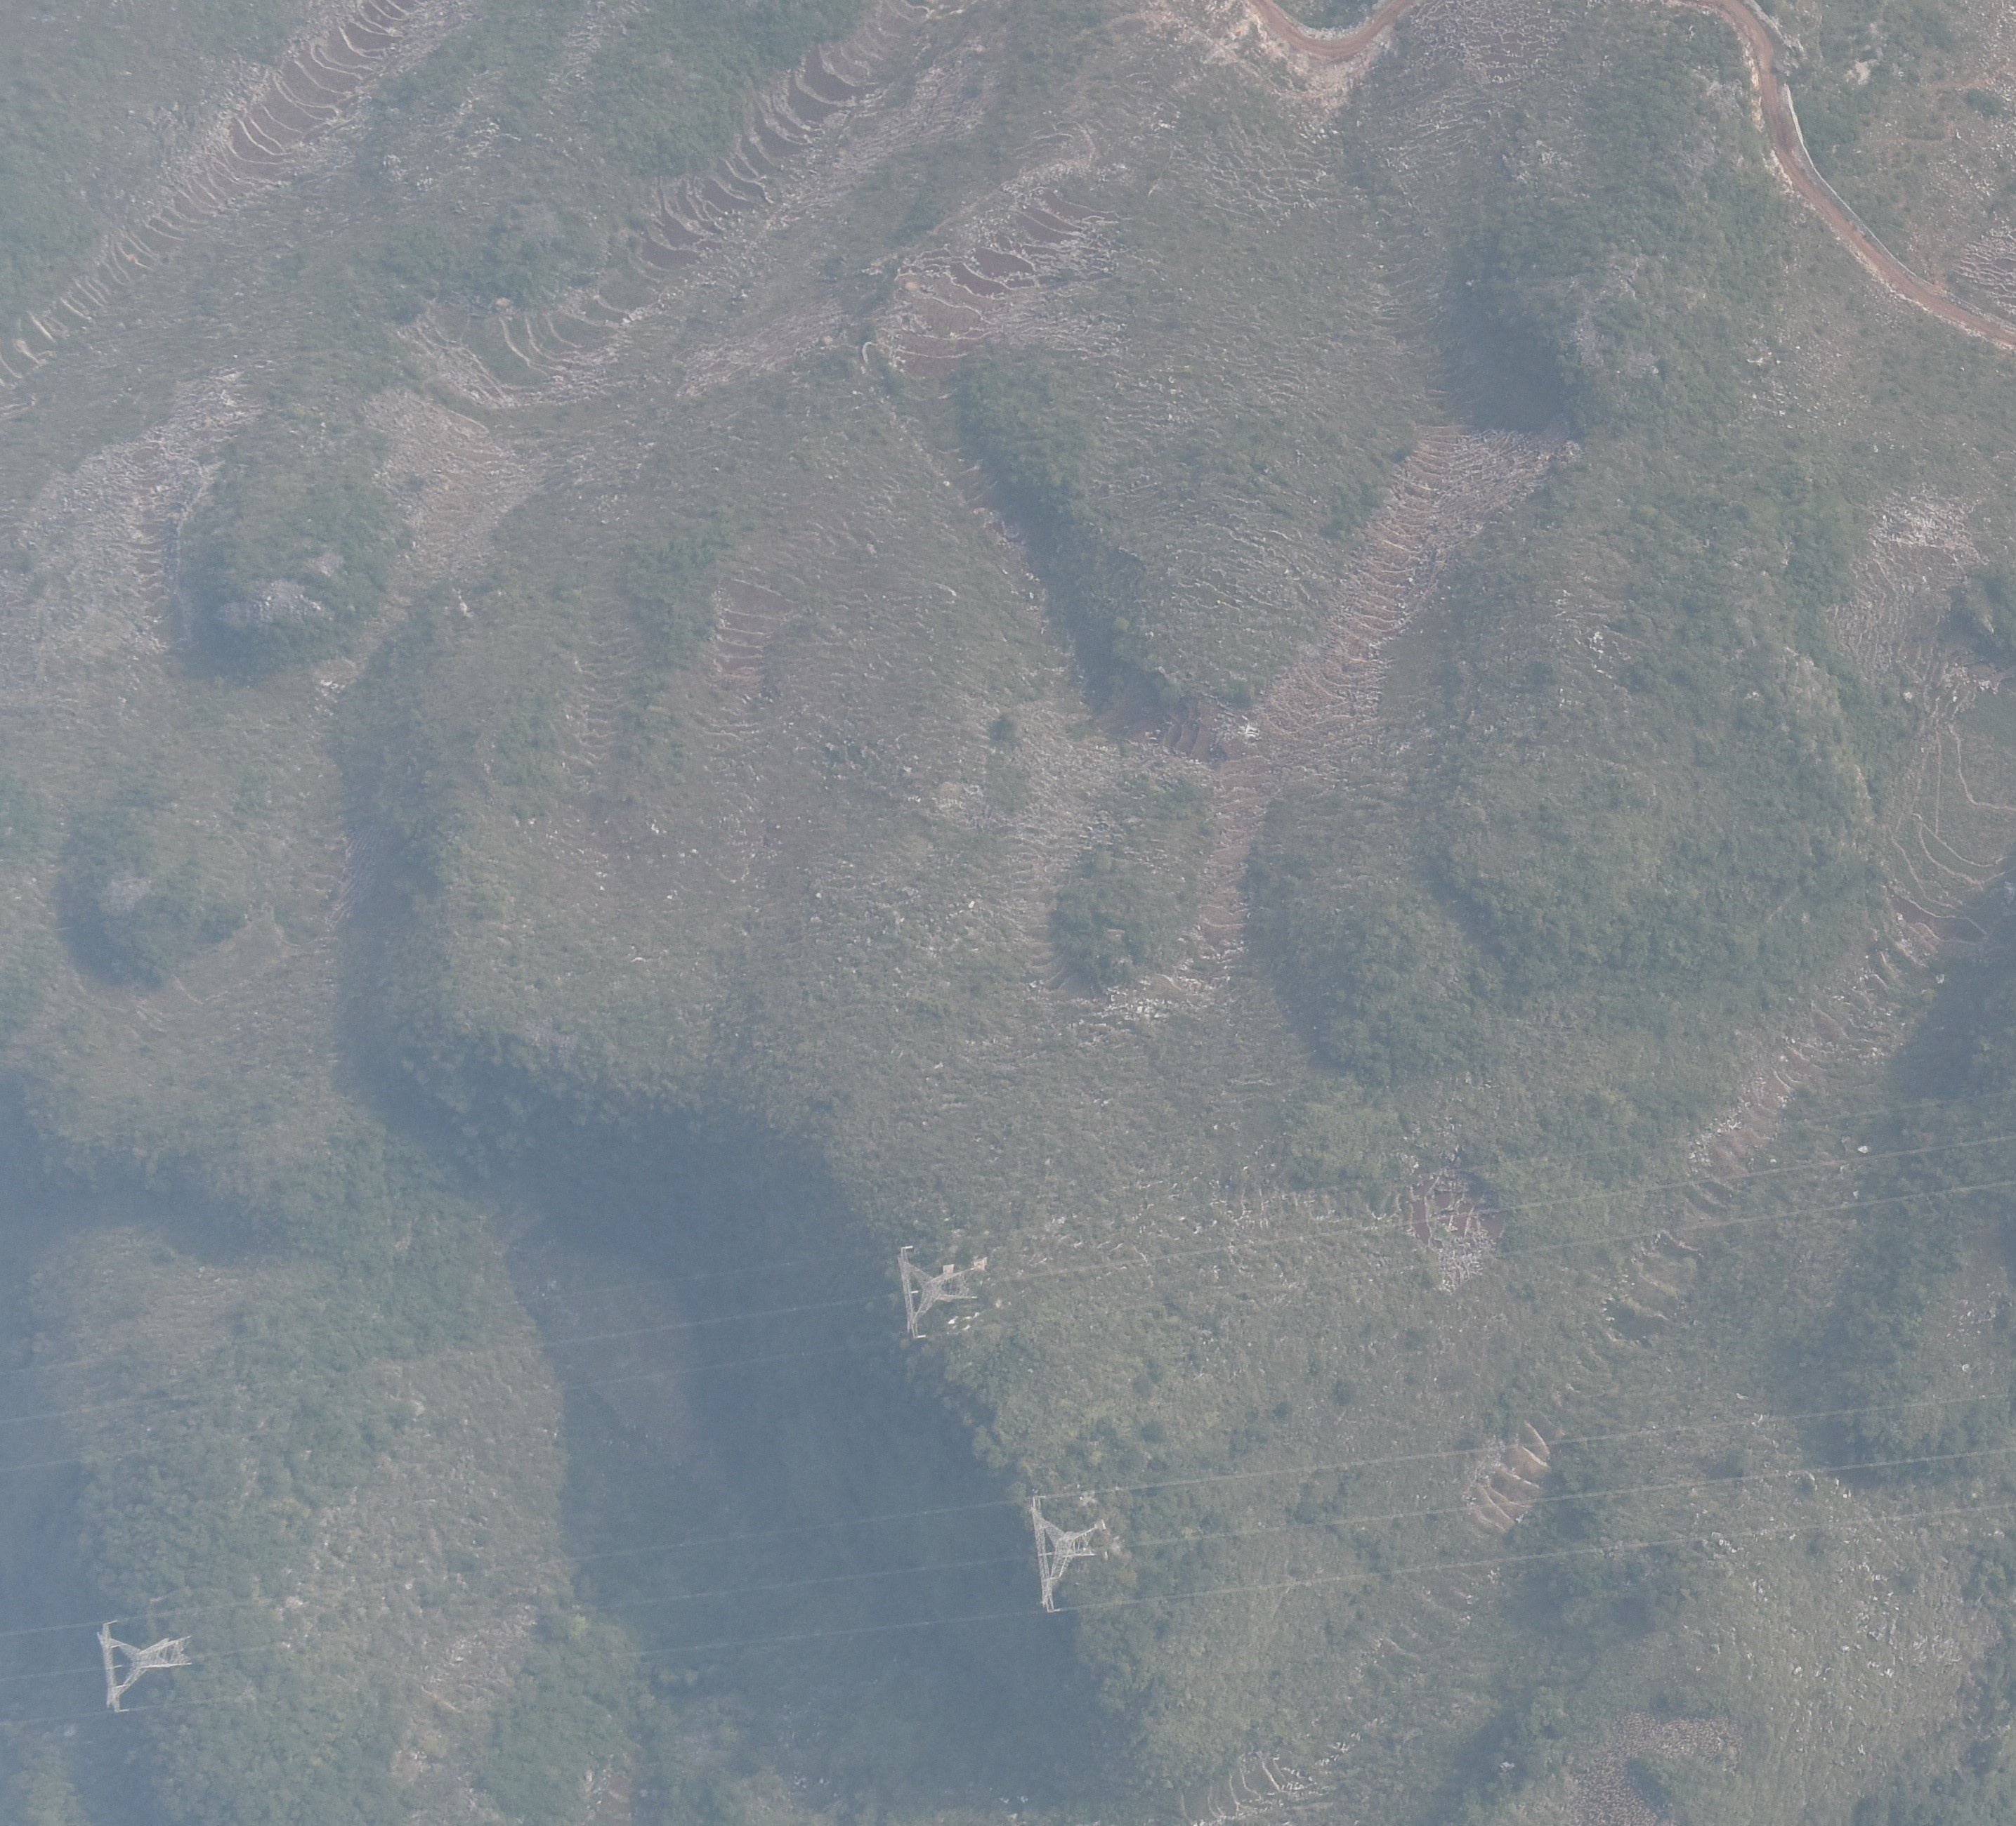cable-tower: (1031, 1496, 1124, 1615), (84, 1615, 195, 1712), (892, 1245, 990, 1343)
